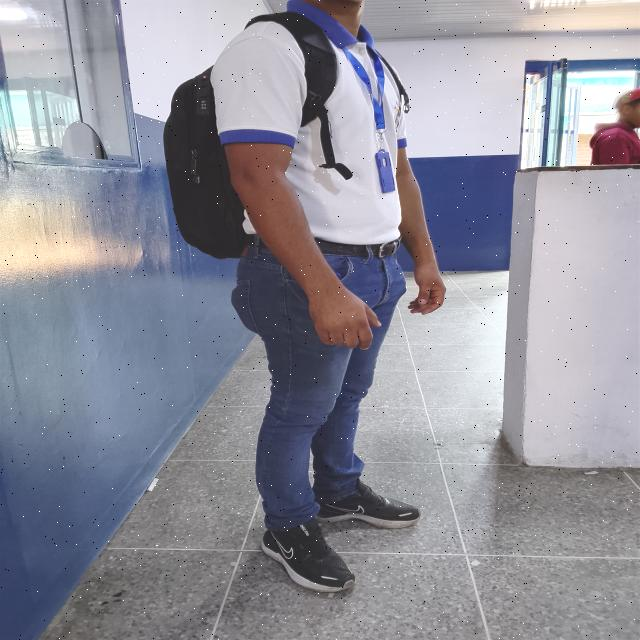carnet: (375, 152, 396, 194)
pantalon_oscuro: (230, 248, 408, 530)
uniforme_superior: (210, 0, 408, 245)
